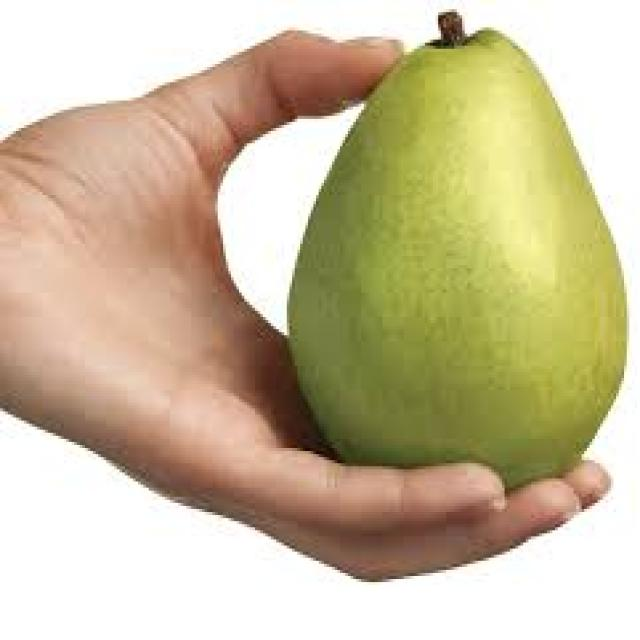pear: (291, 9, 630, 504)
